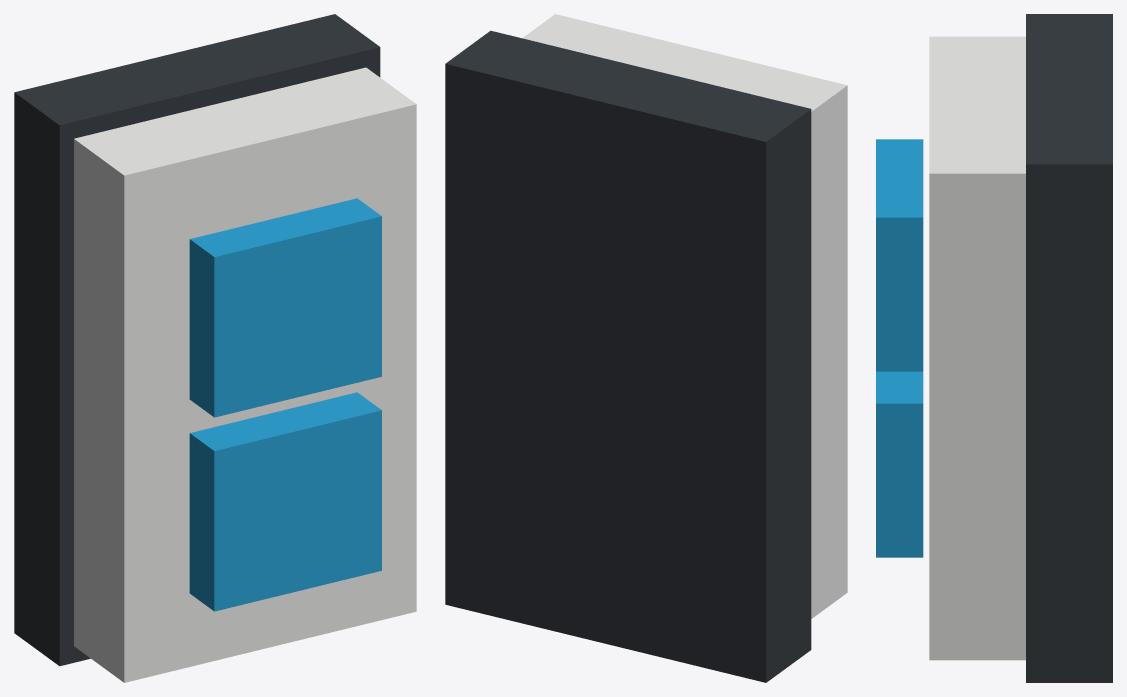
The model's file is wall-switch.glb.
The picture shows the model from 3 angles, left to right: view 1: azimuth 30°, elevation 25°; view 2: azimuth 150°, elevation 25°; view 3: azimuth 270°, elevation 25°; orthographic projection. The views are drawn at different scales.
Visible parts, largest first — view 1: switch_face, switch_back, switch_down, switch_up; view 2: switch_back, switch_face; view 3: switch_face, switch_back, switch_up, switch_down.
Part boxes in pixels (x1,y1,x2,y2): switch_face: [74, 67, 416, 682]; switch_back: [14, 14, 380, 666]; switch_down: [189, 392, 381, 611]; switch_up: [189, 198, 381, 417]; switch_back: [445, 30, 811, 682]; switch_face: [522, 14, 847, 618]; switch_face: [929, 36, 1025, 660]; switch_back: [1026, 14, 1112, 682]; switch_up: [876, 139, 923, 371]; switch_down: [876, 371, 923, 557].
Bounding box in the file's own units: 0.09 × 0.145 × 0.06.
